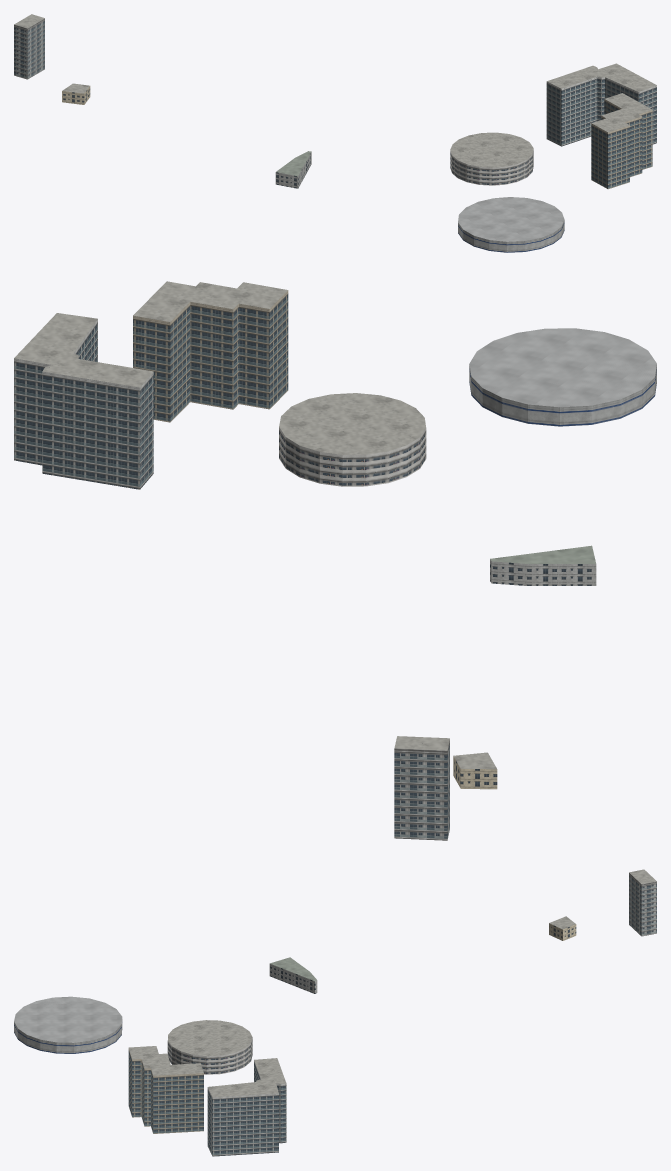
File: ArahaTown_Block_E03072_N01024.gltf
The picture shows the model from 3 angles, top to bottom: view 1: azimuth 30°, elevation 25°; view 2: azimuth 150°, elevation 25°; view 3: azimuth 270°, elevation 25°; orthographic projection. The views are drawn at different scales.
Visible parts, largest first — view 1: ArahaTown_Block_E03072_N01024; view 2: ArahaTown_Block_E03072_N01024; view 3: ArahaTown_Block_E03072_N01024.
Boxes of the visible parts, x1,y1,x2,y2 form: ArahaTown_Block_E03072_N01024: (14,14,656,252); ArahaTown_Block_E03072_N01024: (14,281,656,840); ArahaTown_Block_E03072_N01024: (14,869,656,1156).
Size of the model in its own units: 306 by 47.09 by 385.
Materials: 10 (10 with a texture image).
